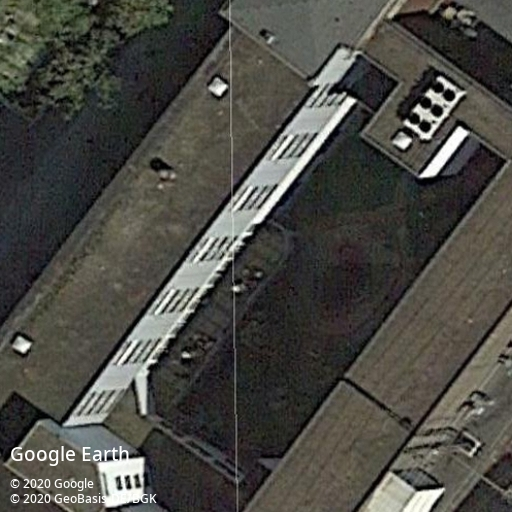Chiller: (402, 74, 465, 142)
